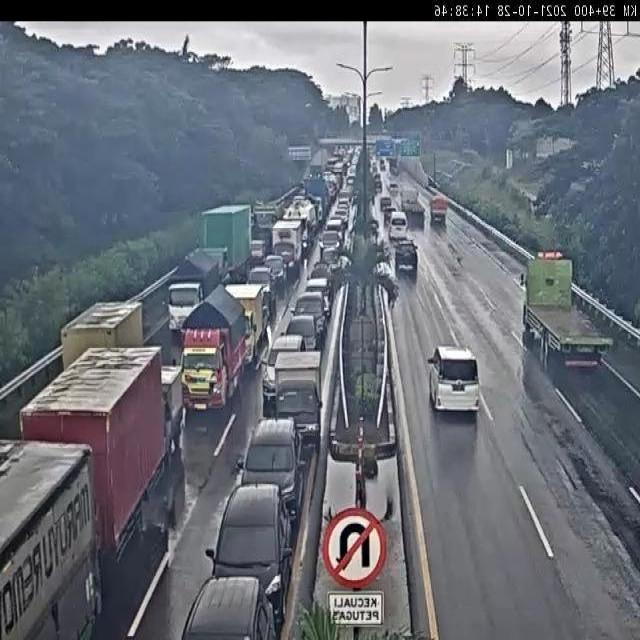Car: (210, 480, 286, 585), (240, 415, 298, 521), (181, 578, 281, 638), (262, 332, 306, 414), (290, 293, 322, 342), (284, 316, 315, 349), (394, 245, 419, 278), (319, 230, 340, 261)
Truck: (0, 348, 179, 635), (515, 243, 618, 367), (182, 293, 253, 404), (166, 239, 225, 334), (59, 304, 144, 369), (274, 351, 325, 457), (202, 202, 252, 276), (270, 220, 302, 282), (427, 188, 450, 226), (399, 190, 426, 217)
Van: (422, 340, 486, 418), (387, 210, 407, 240)
